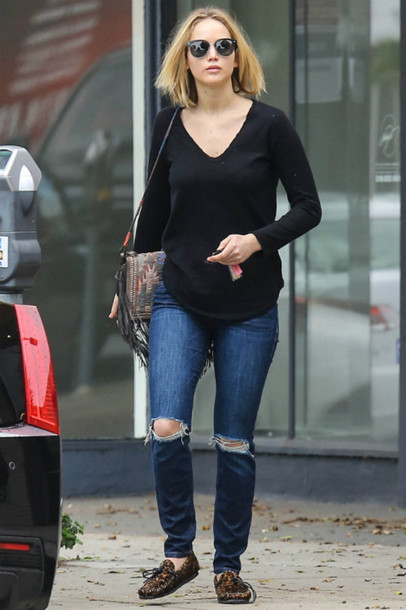jeans: (147, 287, 269, 569)
sunglasses: (182, 41, 235, 56)
